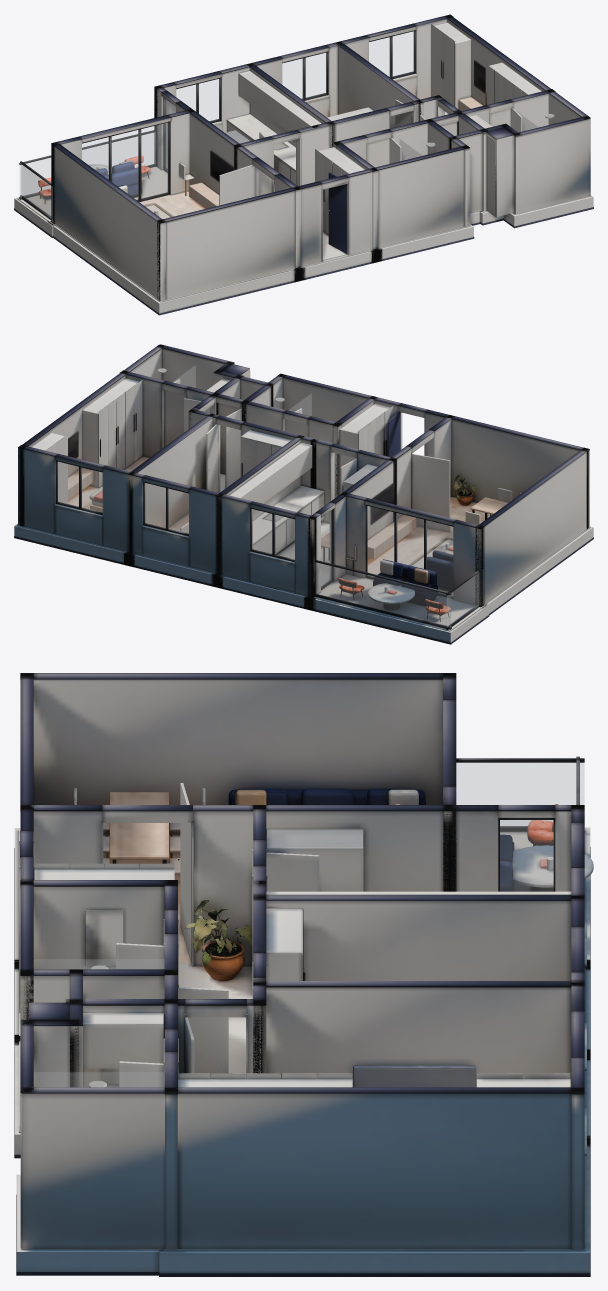
3 views of the same model, one above another, from view 1: azimuth 30°, elevation 25°; view 2: azimuth 150°, elevation 25°; view 3: azimuth 270°, elevation 25° (orthographic). The views are drawn at different scales.
Visible parts, largest first — view 1: plan, glass0_m, railg0_m, glass4_m, glass3_m, glass2_m, railg3_m; view 2: plan, glass0_m, railg0_m, glass4_m, glass3_m, glass2_m, railg3_m, glass1_m; view 3: plan, railg3_m, glass1_m, sg.001_m, sg_m.
Boxes of the visible parts, x1,y1,x2,y2 form: plan: [14, 14, 593, 315]; glass0_m: [82, 123, 168, 199]; railg0_m: [20, 132, 155, 196]; glass4_m: [369, 31, 414, 76]; glass3_m: [282, 53, 326, 98]; glass2_m: [176, 79, 219, 121]; railg3_m: [21, 165, 50, 216]; plan: [14, 344, 593, 644]; glass0_m: [367, 506, 452, 595]; railg0_m: [315, 562, 450, 626]; glass4_m: [57, 462, 102, 512]; glass3_m: [145, 483, 188, 533]; glass2_m: [252, 509, 294, 559]; railg3_m: [447, 573, 478, 626]; glass1_m: [321, 510, 331, 586]; plan: [14, 673, 593, 1276]; railg3_m: [456, 763, 584, 826]; glass1_m: [500, 820, 553, 891]; sg.001_m: [34, 1072, 163, 1086]; sg_m: [34, 959, 164, 968].
Size of the model in its own units: 13.26 by 2.62 by 7.61.
2 materials, 1 textured.
